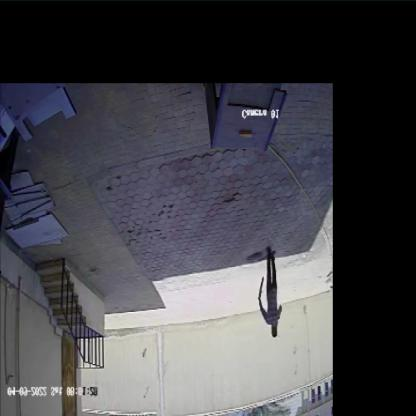handgun: (254, 274, 265, 304)
